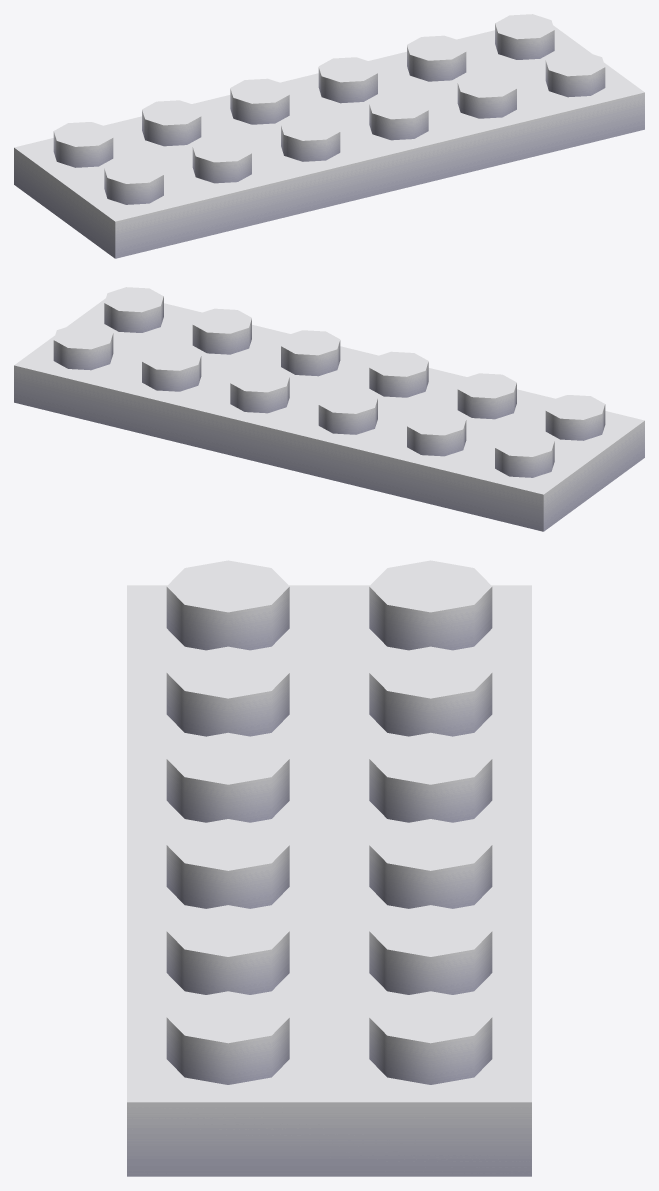
The model's file is round-lq-plate-2x6.glb.
The picture shows the model from 3 angles, top to bottom: view 1: azimuth 30°, elevation 25°; view 2: azimuth 150°, elevation 25°; view 3: azimuth 270°, elevation 25°; orthographic projection. The views are drawn at different scales.
Visible parts, largest first — view 1: round-lq-plate-2x6; view 2: round-lq-plate-2x6; view 3: round-lq-plate-2x6.
Boxes of the visible parts, <box> form: round-lq-plate-2x6: <box>14,14,644,258</box>; round-lq-plate-2x6: <box>14,287,644,531</box>; round-lq-plate-2x6: <box>127,560,531,1176</box>.
Size of the model in its own units: 2.38 by 0.25 by 0.79.
Materials: 1 (1 with a texture image).
